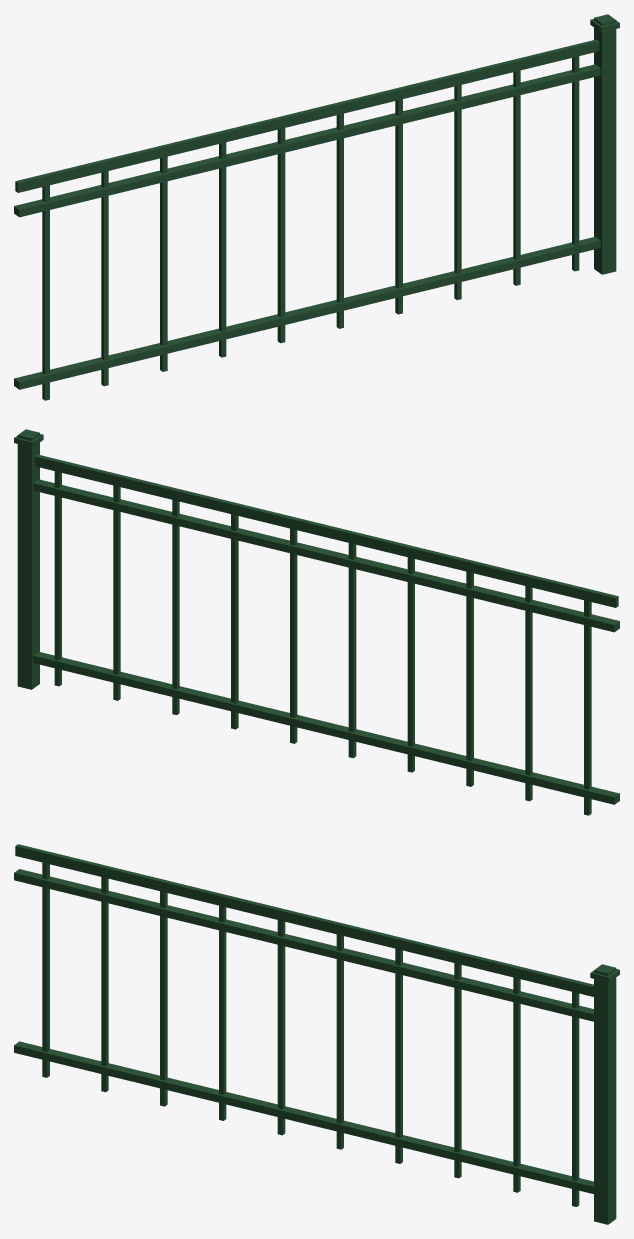
The model's file is SM_Prop_play_fence_0_LOD1.glb.
3 renders of one model, top to bottom at view 1: azimuth 30°, elevation 25°; view 2: azimuth 150°, elevation 25°; view 3: azimuth 330°, elevation 25°, orthographic.
Parts seen in each view (by area): view 1: SM_Prop_play_fence_0_LOD1; view 2: SM_Prop_play_fence_0_LOD1; view 3: SM_Prop_play_fence_0_LOD1.
Boxes of the visible parts, x1,y1,x2,y2 form: SM_Prop_play_fence_0_LOD1: (14,14,619,400); SM_Prop_play_fence_0_LOD1: (14,429,619,815); SM_Prop_play_fence_0_LOD1: (14,844,619,1224).
Size of the model in its own units: 2.54 by 1.02 by 0.08.
